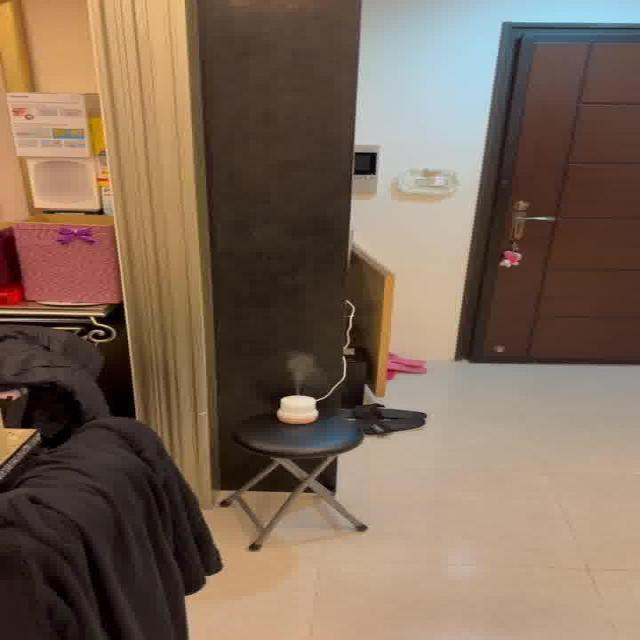fire: (276, 349, 328, 391)
